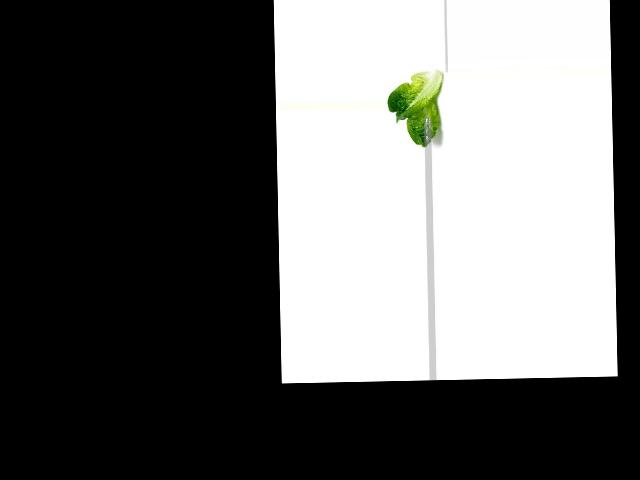lettuce: (386, 67, 441, 150)
